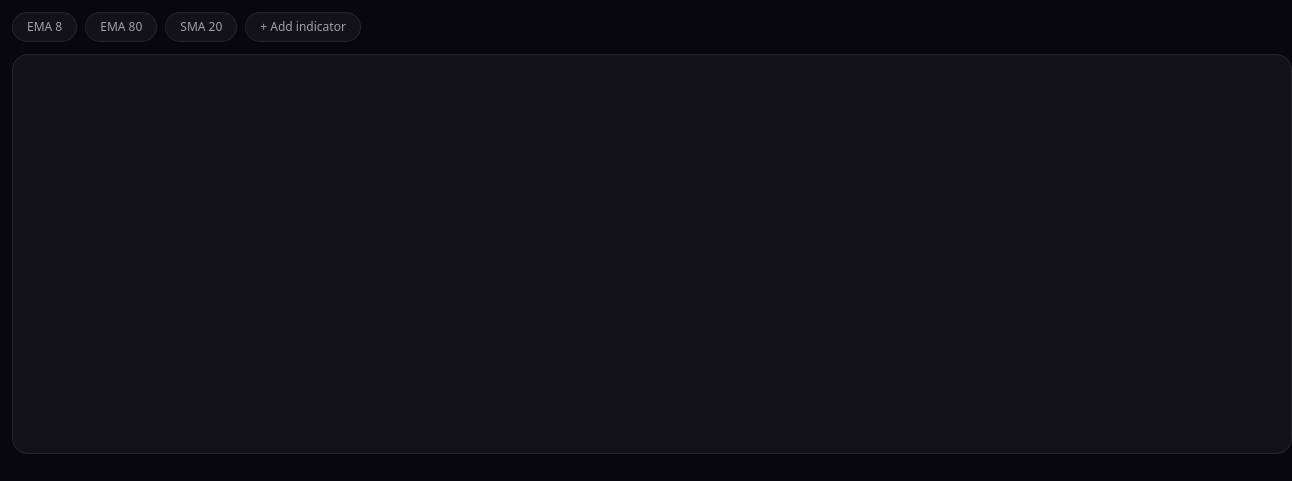
Test case: CandlestickChart › reveals and hides the custom indicator form via the "Add indicator" button and Cancel
The image size is (1292, 481).
Expected: the field labelled "type" is not shown
Click the button "+ Add indicator" at point(303, 27), box [245, 12, 361, 42]
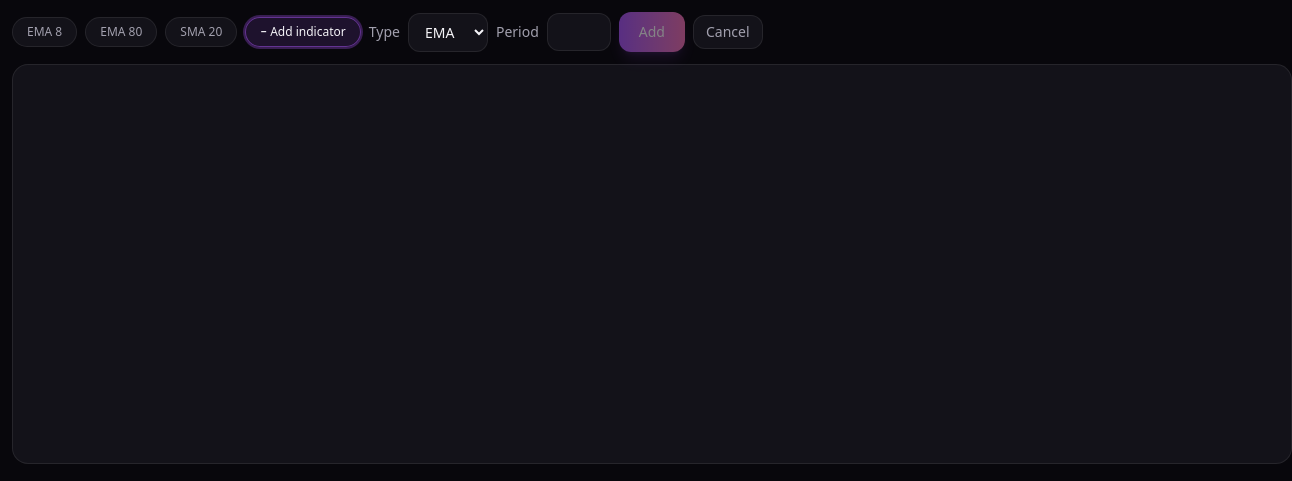
Now the dropdown labelled "Type" is shown, box [408, 12, 488, 52]
Now the number field labelled "Period" is shown, box [547, 13, 611, 51]
Click the button "− Add indicator" at point(303, 32), box [245, 17, 361, 47]
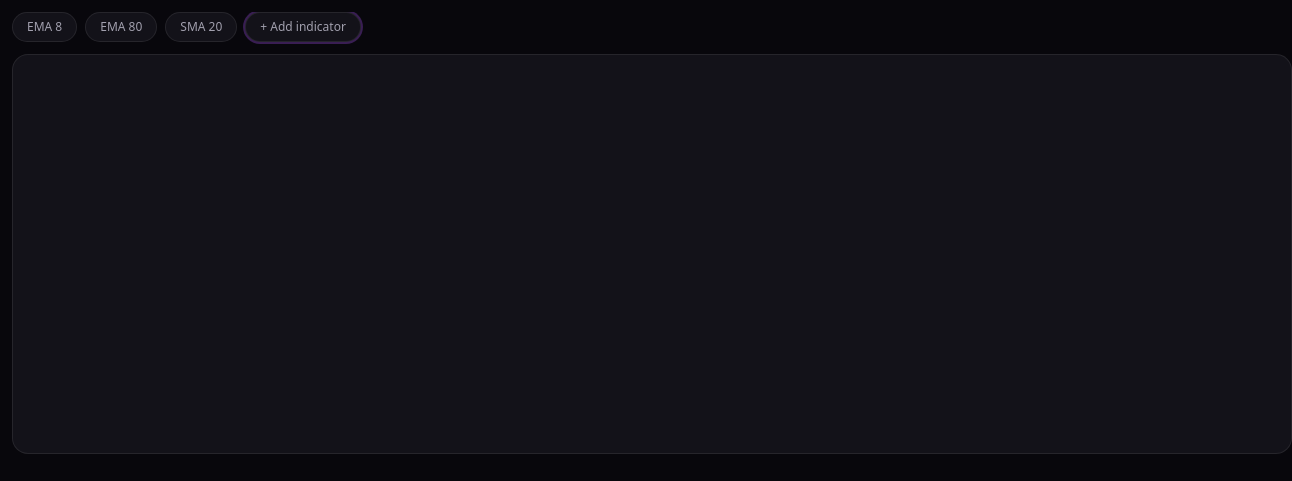
Now the label labelled "Type" is gone
Click the button "+ Add indicator" at point(303, 27), box [245, 12, 361, 42]
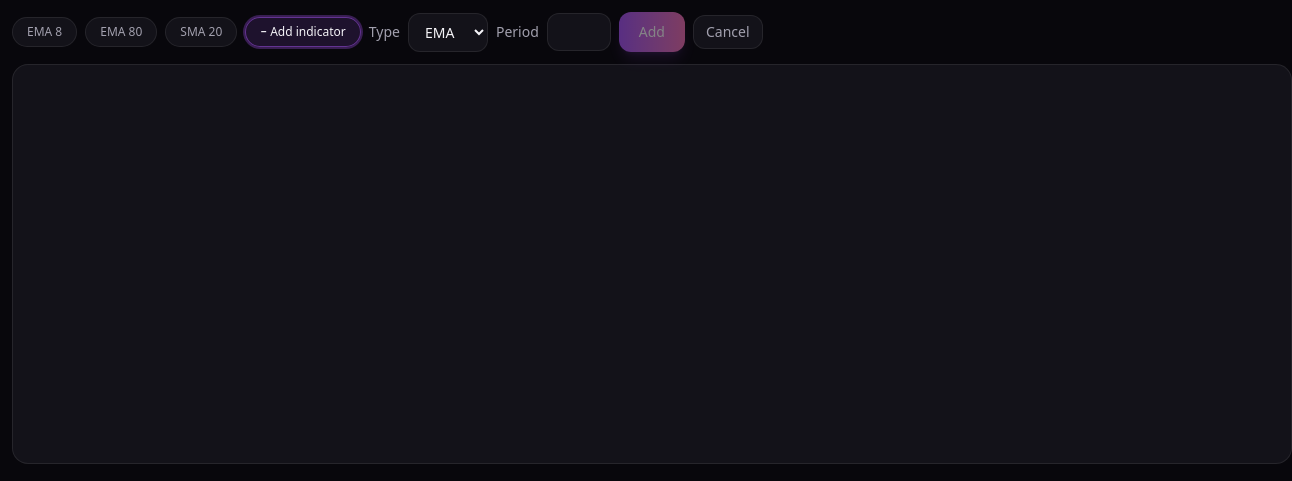
Now the dropdown labelled "Type" is shown, box [408, 12, 488, 52]
Click the button "Cancel" at point(728, 32), box [693, 15, 762, 49]
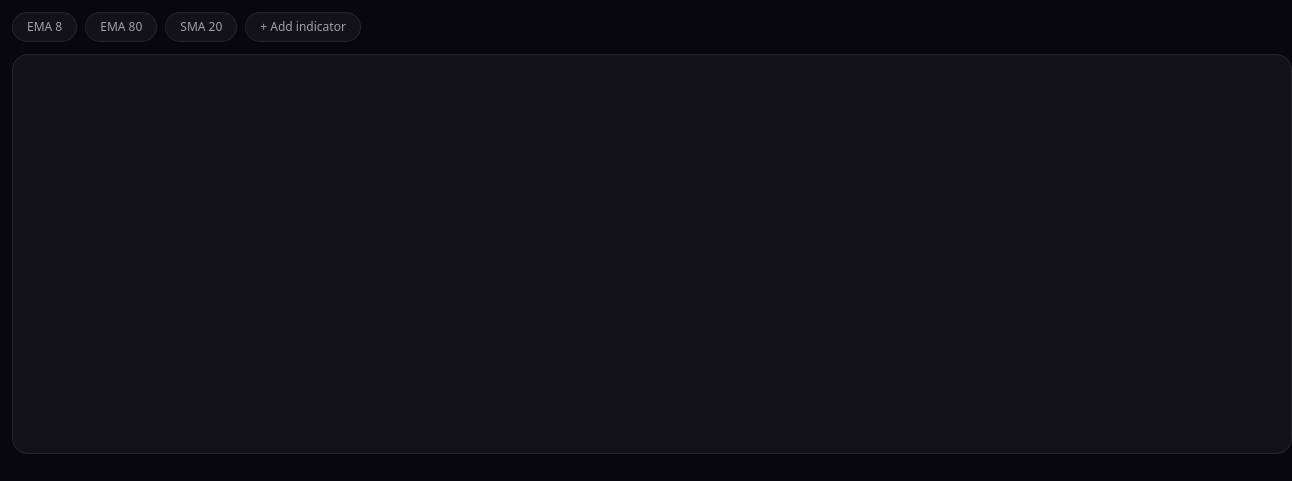
Now the label labelled "Type" is gone
